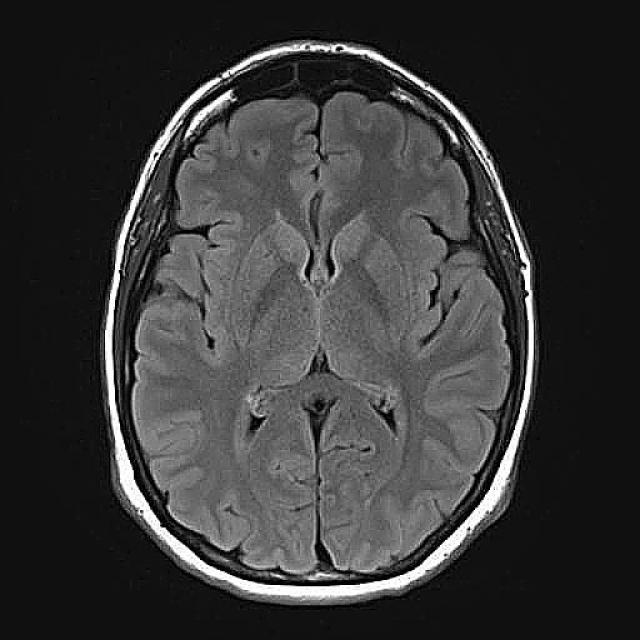notumor: (101, 40, 539, 610)
